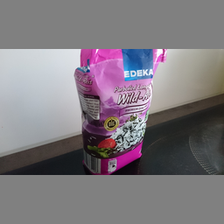rice: (73, 49, 168, 174)
